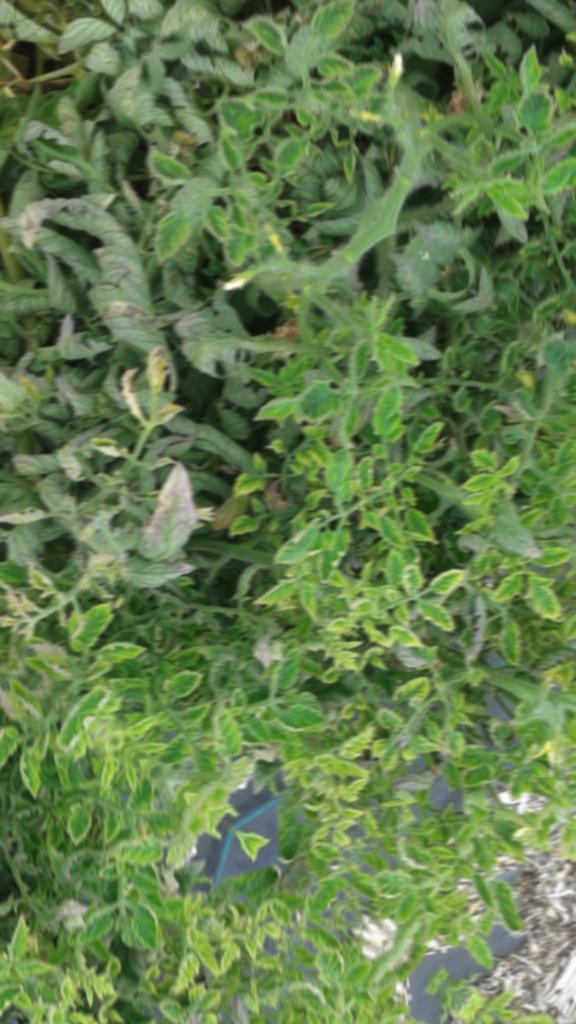Tomato leaf yellow virus: (346, 373, 430, 461), (270, 365, 350, 448), (187, 692, 266, 770), (387, 815, 468, 891), (49, 587, 121, 664), (239, 371, 311, 446), (303, 441, 373, 516), (351, 311, 428, 378), (263, 678, 336, 746), (472, 877, 539, 945), (509, 522, 576, 588), (151, 648, 212, 714), (266, 512, 326, 579), (509, 564, 573, 626), (296, 529, 355, 590), (258, 636, 315, 695), (92, 623, 149, 681), (213, 503, 267, 563), (246, 566, 301, 624), (294, 823, 352, 876), (329, 713, 382, 770), (281, 575, 336, 629), (407, 591, 462, 641), (479, 563, 529, 616), (366, 857, 417, 908), (489, 757, 538, 810), (225, 459, 273, 510), (397, 503, 449, 550), (455, 927, 504, 975), (362, 507, 412, 554), (389, 665, 436, 712), (455, 458, 501, 506), (384, 559, 431, 605), (381, 615, 429, 660), (420, 555, 465, 603), (431, 724, 473, 764), (556, 595, 576, 645)
